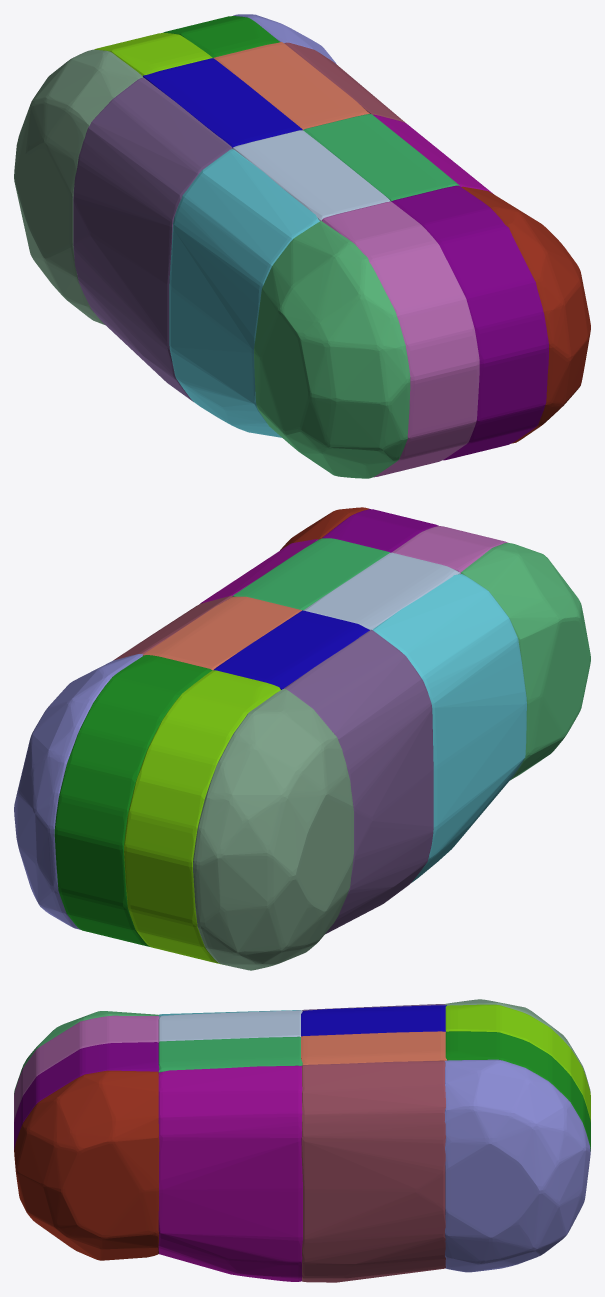
Rendered from f_middle_split.obj.
3 renders of one model, top to bottom at view 1: azimuth 30°, elevation 25°; view 2: azimuth 150°, elevation 25°; view 3: azimuth 270°, elevation 25°, orthographic. The views are drawn at different scales.
Parts seen in each view (by area): view 1: geometry_3, geometry_1, geometry_2, geometry_7, geometry_11, geometry_0, geometry_15, geometry_5, geometry_6, geometry_9, geometry_10, geometry_4 (+4 smaller); view 2: geometry_0, geometry_1, geometry_2, geometry_4, geometry_8, geometry_3, geometry_12, geometry_5, geometry_6, geometry_9, geometry_10, geometry_7 (+4 smaller); view 3: geometry_13, geometry_14, geometry_12, geometry_15, geometry_9, geometry_10, geometry_8, geometry_11, geometry_4, geometry_7, geometry_5, geometry_6 (+2 smaller).
Part boxes in pixels (x1=…): geometry_3: x1=254, y1=221, x2=410, y2=478; geometry_1: x1=73, y1=77, x2=232, y2=401; geometry_2: x1=169, y1=149, x2=319, y2=437; geometry_7: x1=321, y1=201, x2=479, y2=477; geometry_11: x1=391, y1=185, x2=548, y2=460; geometry_0: x1=14, y1=49, x2=143, y2=325; geometry_15: x1=461, y1=186, x2=590, y2=443; geometry_5: x1=143, y1=58, x2=302, y2=147; geometry_6: x1=232, y1=130, x2=390, y2=221; geometry_9: x1=213, y1=42, x2=369, y2=129; geometry_10: x1=303, y1=114, x2=459, y2=201; geometry_4: x1=94, y1=33, x2=212, y2=75; geometry_0: x1=193, y1=689, x2=353, y2=970; geometry_1: x1=284, y1=629, x2=433, y2=934; geometry_2: x1=373, y1=574, x2=526, y2=882; geometry_4: x1=124, y1=670, x2=280, y2=964; geometry_8: x1=54, y1=655, x2=212, y2=946; geometry_3: x1=460, y1=542, x2=590, y2=780; geometry_12: x1=14, y1=654, x2=143, y2=929; geometry_5: x1=213, y1=610, x2=369, y2=689; geometry_6: x1=303, y1=552, x2=460, y2=630; geometry_9: x1=143, y1=596, x2=301, y2=670; geometry_10: x1=232, y1=538, x2=389, y2=610; geometry_7: x1=392, y1=526, x2=507, y2=573; geometry_13: x1=301, y1=1060, x2=445, y2=1282; geometry_14: x1=158, y1=1065, x2=302, y2=1281; geometry_12: x1=444, y1=1059, x2=590, y2=1272; geometry_15: x1=14, y1=1070, x2=159, y2=1260; geometry_9: x1=301, y1=1031, x2=447, y2=1064; geometry_10: x1=158, y1=1036, x2=302, y2=1072; geometry_8: x1=445, y1=1031, x2=590, y2=1151; geometry_11: x1=14, y1=1042, x2=159, y2=1149; geometry_4: x1=445, y1=1004, x2=590, y2=1121; geometry_7: x1=14, y1=1015, x2=159, y2=1121; geometry_5: x1=301, y1=1005, x2=446, y2=1036; geometry_6: x1=158, y1=1010, x2=302, y2=1041.
Bounding box in the file's own units: 18.3 × 17.25 × 40.17.
